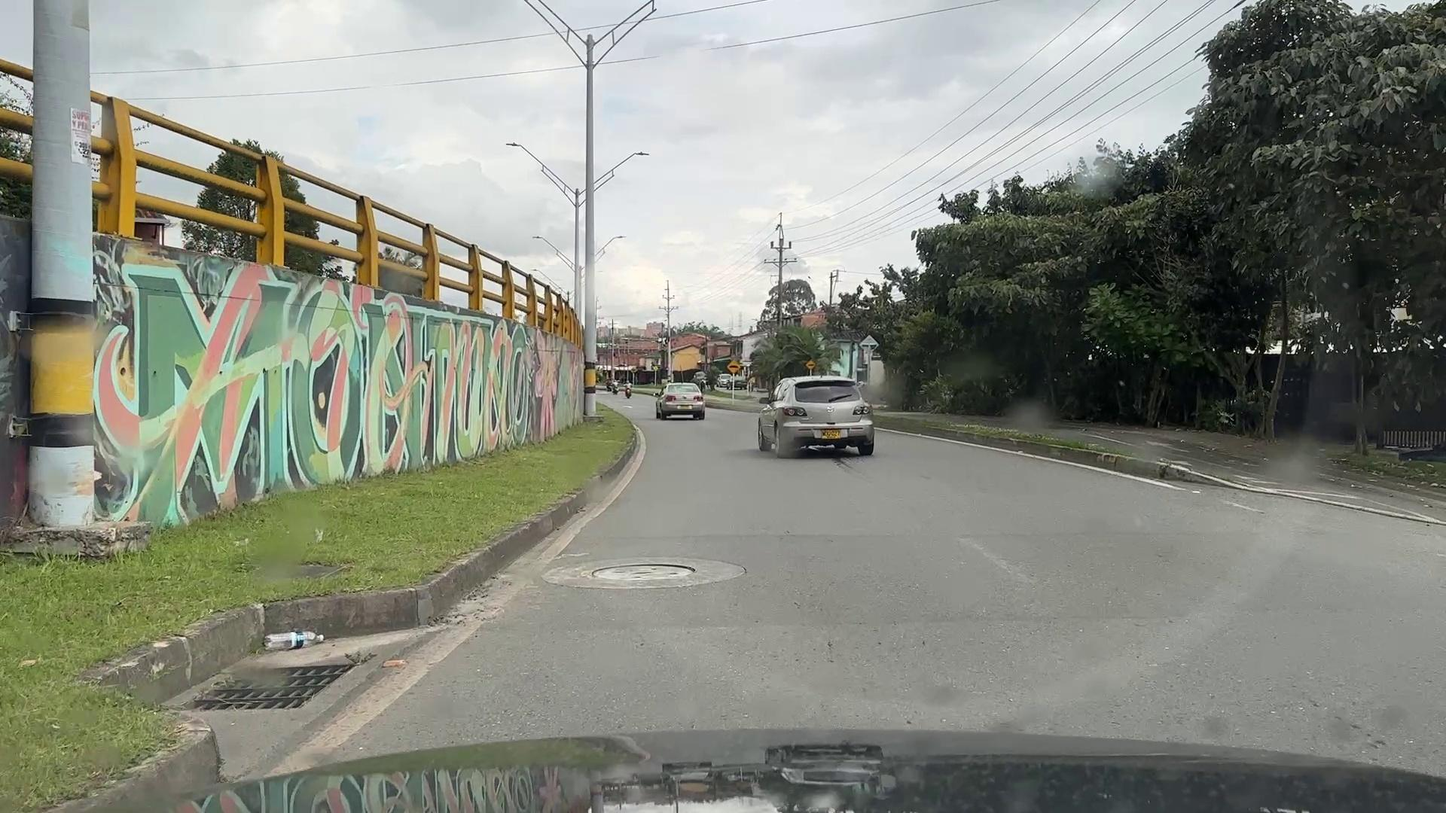registro: (592, 564, 694, 580)
rejilla: (184, 662, 356, 710)
